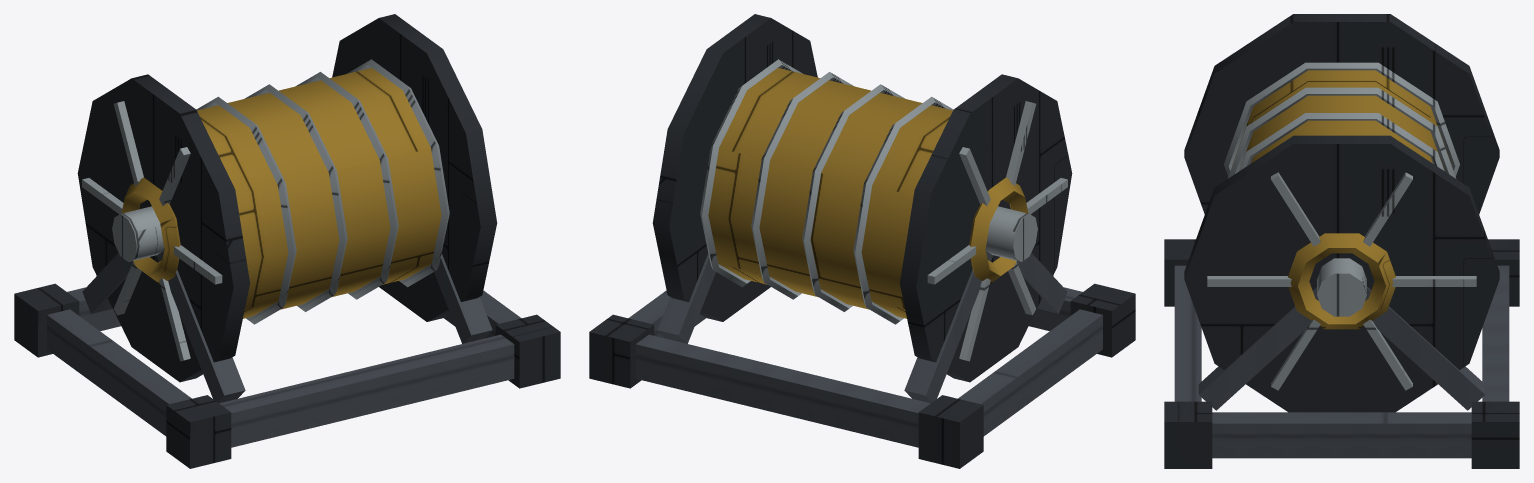
The model's file is cargo-wound-conductor-spool_lod2.glb.
3 views of the same model, side by side, from view 1: azimuth 30°, elevation 25°; view 2: azimuth 150°, elevation 25°; view 3: azimuth 270°, elevation 25° (orthographic).
Visible parts, largest first — view 1: LOD2_Armor, LOD2_Livery, LOD2_Mechanical, LOD2_BrushedMetal; view 2: LOD2_Armor, LOD2_Livery, LOD2_Mechanical, LOD2_BrushedMetal; view 3: LOD2_Armor, LOD2_Mechanical, LOD2_BrushedMetal, LOD2_Livery.
Part boxes in pixels (x1,y1,x2,y2): LOD2_Armor: [14, 14, 560, 468]; LOD2_Livery: [121, 68, 441, 318]; LOD2_Mechanical: [47, 248, 521, 447]; LOD2_BrushedMetal: [82, 59, 449, 361]; LOD2_Armor: [589, 14, 1135, 468]; LOD2_Livery: [708, 68, 1028, 318]; LOD2_Mechanical: [628, 248, 1102, 447]; LOD2_BrushedMetal: [700, 59, 1067, 361]; LOD2_Armor: [1164, 14, 1519, 468]; LOD2_Mechanical: [1174, 265, 1509, 458]; LOD2_BrushedMetal: [1207, 62, 1476, 390]; LOD2_Livery: [1232, 70, 1451, 329].
Size of the model in its own units: 2.25 by 1.71 by 1.85.
Materials: 4 (4 with a texture image).
